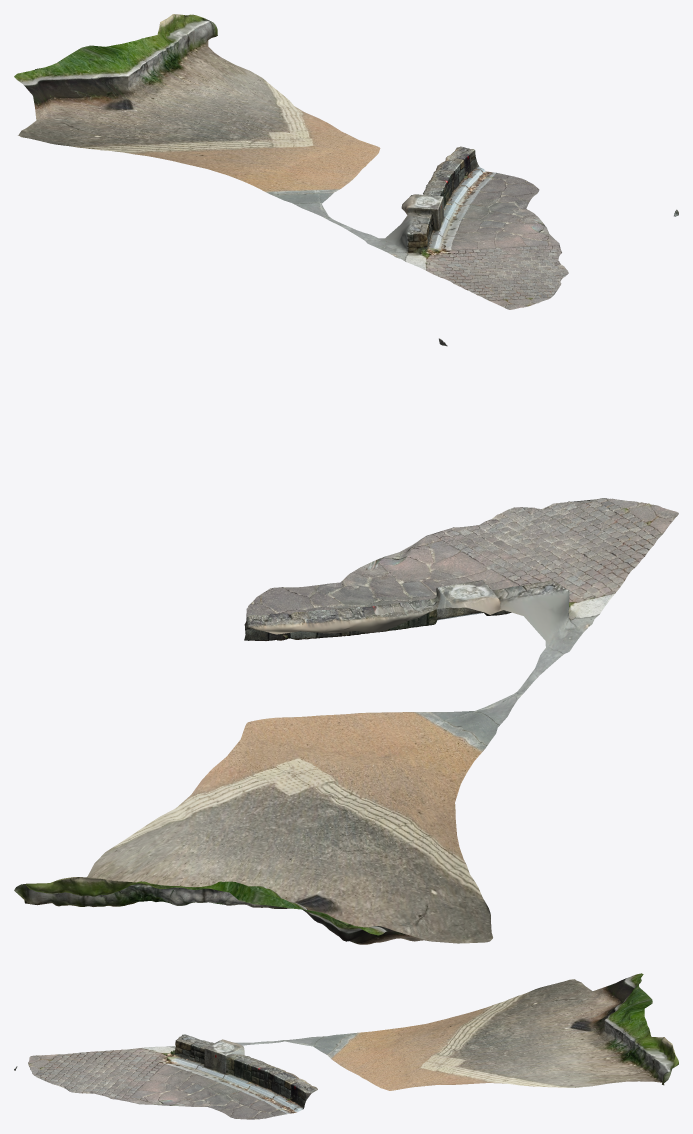
3 views of the same model, one above another, from view 1: azimuth 30°, elevation 25°; view 2: azimuth 150°, elevation 25°; view 3: azimuth 270°, elevation 25° (orthographic). The views are drawn at different scales.
Parts seen in each view (by area): view 1: baked_mesh_f8f96a73; view 2: baked_mesh_f8f96a73; view 3: baked_mesh_f8f96a73.
Boxes of the visible parts, x1,y1,x2,y2 form: baked_mesh_f8f96a73: (14, 14, 678, 309); baked_mesh_f8f96a73: (14, 338, 678, 944); baked_mesh_f8f96a73: (14, 973, 678, 1119).
Bounding box in the file's own units: 0.9384 × 0.1899 × 1.75.
1 material, 1 textured.
